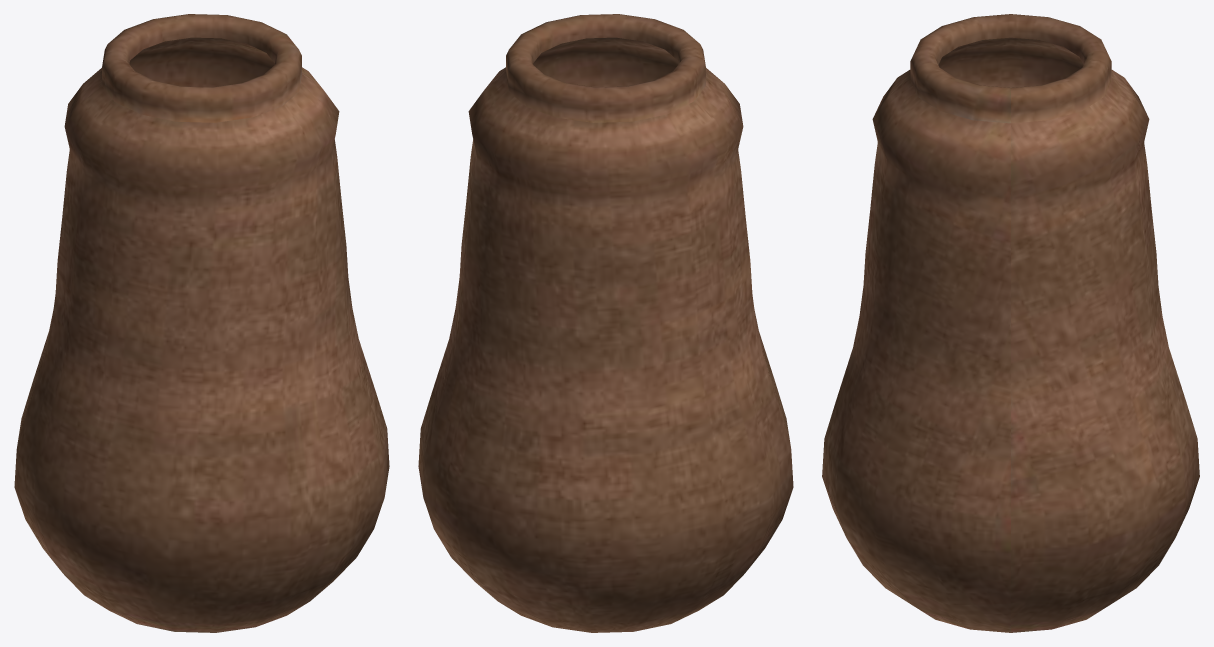
Rendered from tall_jar.gltf.
3 renders of one model, left to right at view 1: azimuth 30°, elevation 25°; view 2: azimuth 150°, elevation 25°; view 3: azimuth 270°, elevation 25°, orthographic.
Visible parts, largest first — view 1: Pottery_2; view 2: Pottery_2; view 3: Pottery_2.
Boxes of the visible parts, x1,y1,x2,y2 form: Pottery_2: (14,14,389,632); Pottery_2: (418,14,793,632); Pottery_2: (822,14,1199,632).
Bounding box in the file's own units: 0.2345 × 0.3662 × 0.2345.
Materials: 1 (1 with a texture image).
